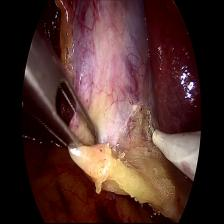Grasper: (22, 25, 102, 156)
Hook: (145, 107, 196, 182)
